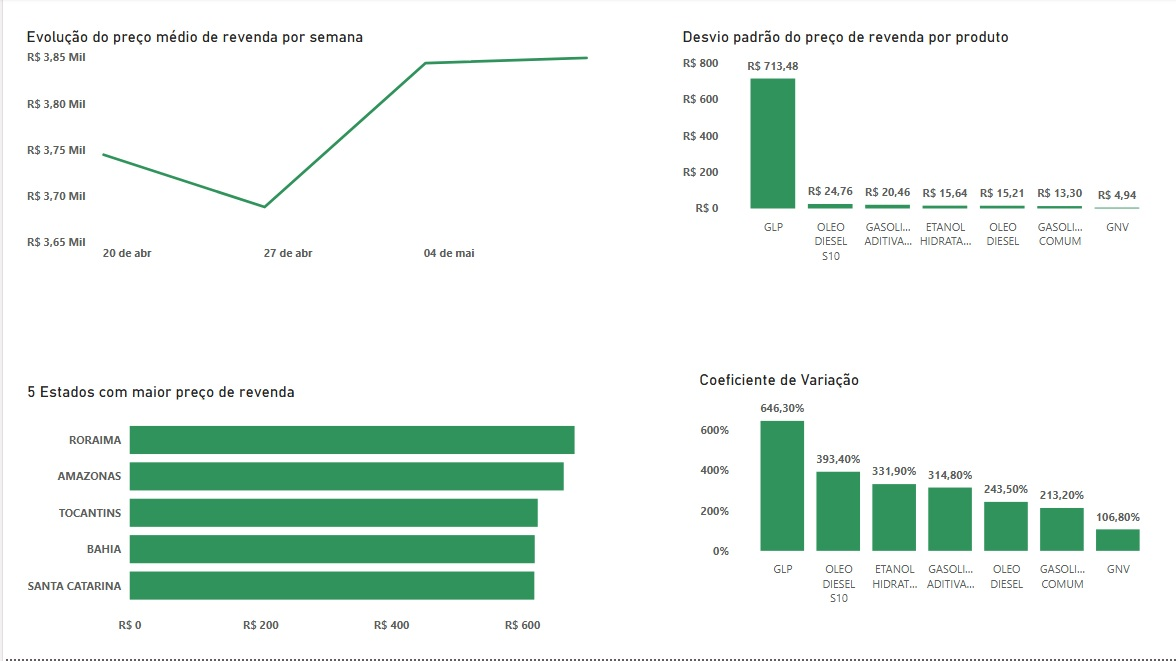

The page's visual inventory and layout, read from the dashboard file:
{"tool":"powerbi","page":{"name":"Página 1","canvas":[1280,720],"ordinal":0},"visuals":[{"type":"lineChart","title":"Evolução do preço médio de revenda por semana","fields":{"Y":["Sum(Consulta1.preco_medio_revenda)"],"Category":["Consulta1.data_final"]},"box":[20.7,31.6,648.2,264.7],"z":0},{"type":"barChart","title":"5 Estados com maior preço de revenda","fields":{"Category":["Consulta1.estado"],"Y":["Sum(Consulta1.preco_medio_revenda)"]},"box":[20.7,418.3,640.5,283.2],"z":1},{"type":"clusteredColumnChart","title":"Desvio padrão do preço de revenda por produto","fields":{"Category":["Consulta1.produto"],"Y":["Sum(Consulta1.desvio_padrao_revenda)"]},"box":[735.3,31.6,533.8,264.7],"z":2},{"type":"clusteredColumnChart","title":"Coeficiente de Variação","fields":{"Category":["Consulta1.produto"],"Y":["Sum(Consulta1.coef_de_variacao_revenda)"]},"box":[754,405,515,264],"z":3}]}

Visuals, with their boxes in screenshot pixels (x1, y1, x2, y2), scaled from the page's 1280x720 canvas onto the 1176x661 screenshot:
"Evolução do preço médio de revenda por semana" lineChart: (left=19, top=29, right=615, bottom=272)
"5 Estados com maior preço de revenda" barChart: (left=19, top=384, right=607, bottom=644)
"Desvio padrão do preço de revenda por produto" clusteredColumnChart: (left=676, top=29, right=1166, bottom=272)
"Coeficiente de Variação" clusteredColumnChart: (left=693, top=372, right=1166, bottom=614)
